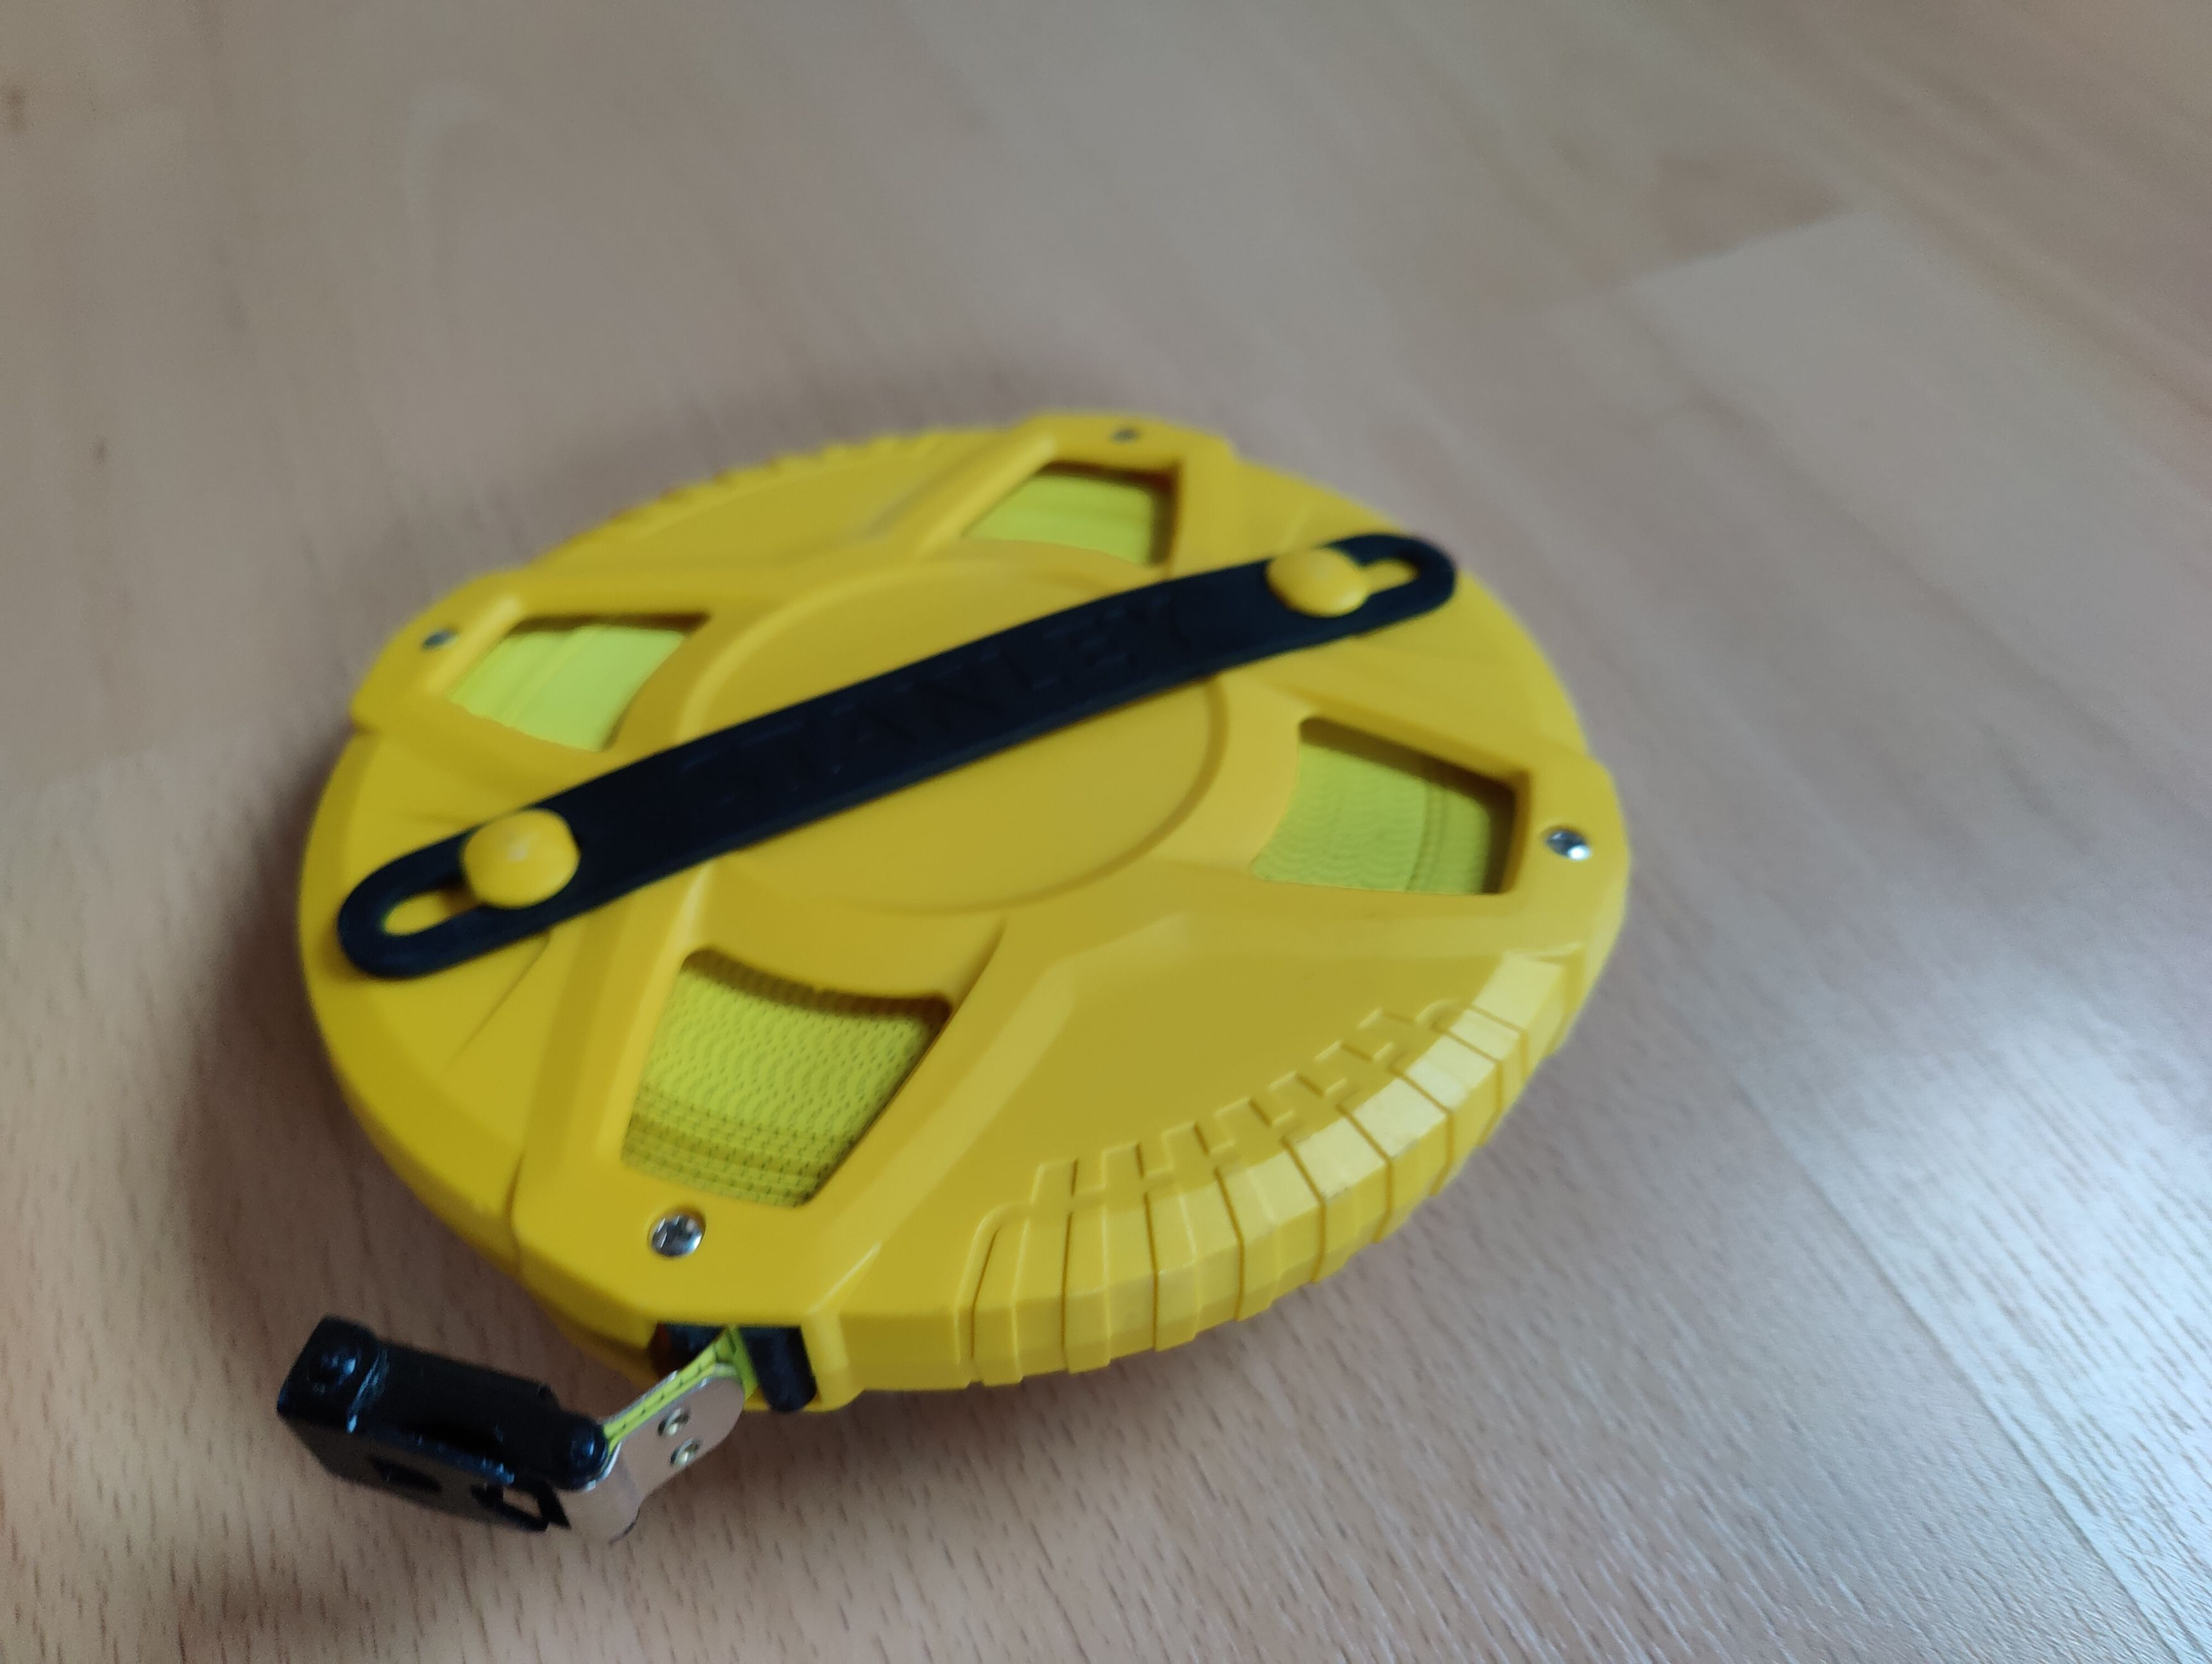tapemeasure: (281, 411, 1635, 1507)
